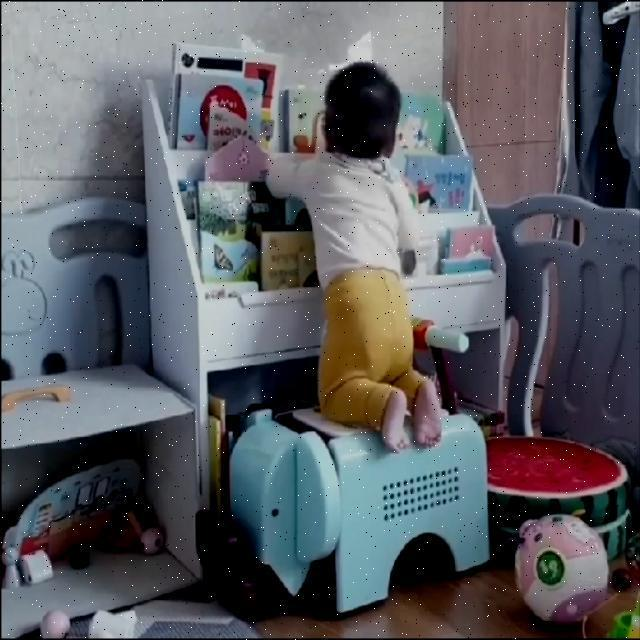child: (261, 65, 451, 450)
